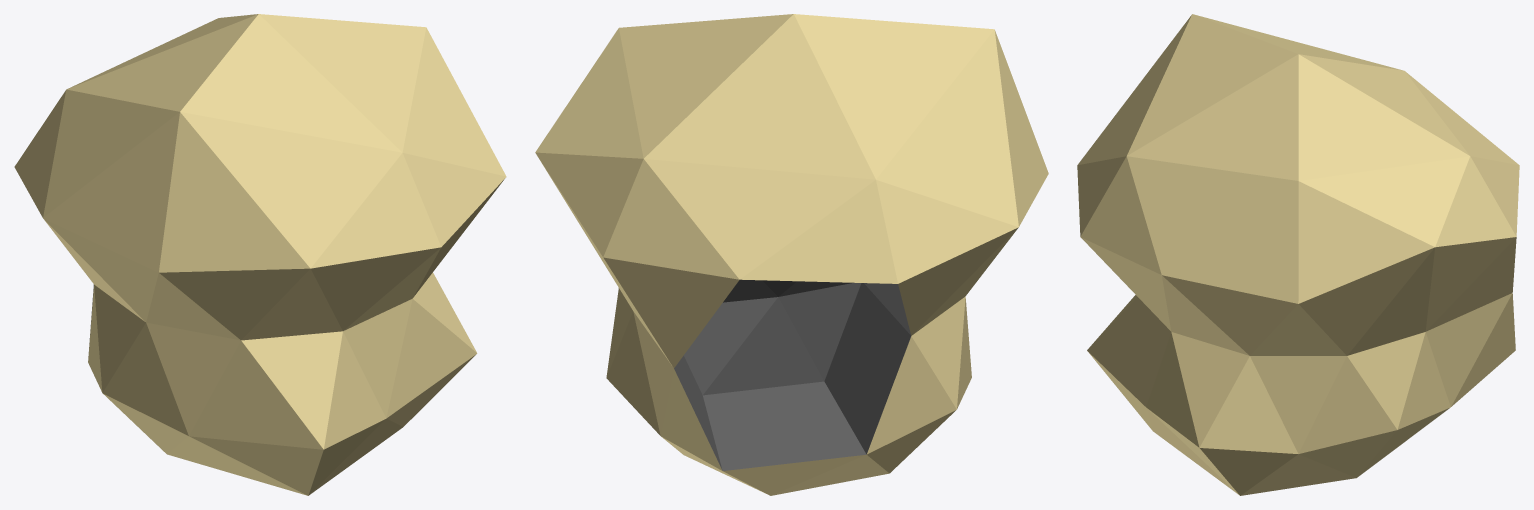
File: PopCorn.fbx
3 renders of one model, left to right at view 1: azimuth 30°, elevation 25°; view 2: azimuth 150°, elevation 25°; view 3: azimuth 270°, elevation 25°, orthographic. The views are drawn at different scales.
Parts seen in each view (by area): view 1: Pop Corn; view 2: Pop Corn; view 3: Pop Corn.
Part boxes in pixels (box(x1,y1,x2,y2)): Pop Corn: box(14, 14, 506, 495); Pop Corn: box(535, 14, 1048, 495); Pop Corn: box(1077, 14, 1519, 495).
Bounding box in the file's own units: 18.81 × 18.73 × 18.02.
